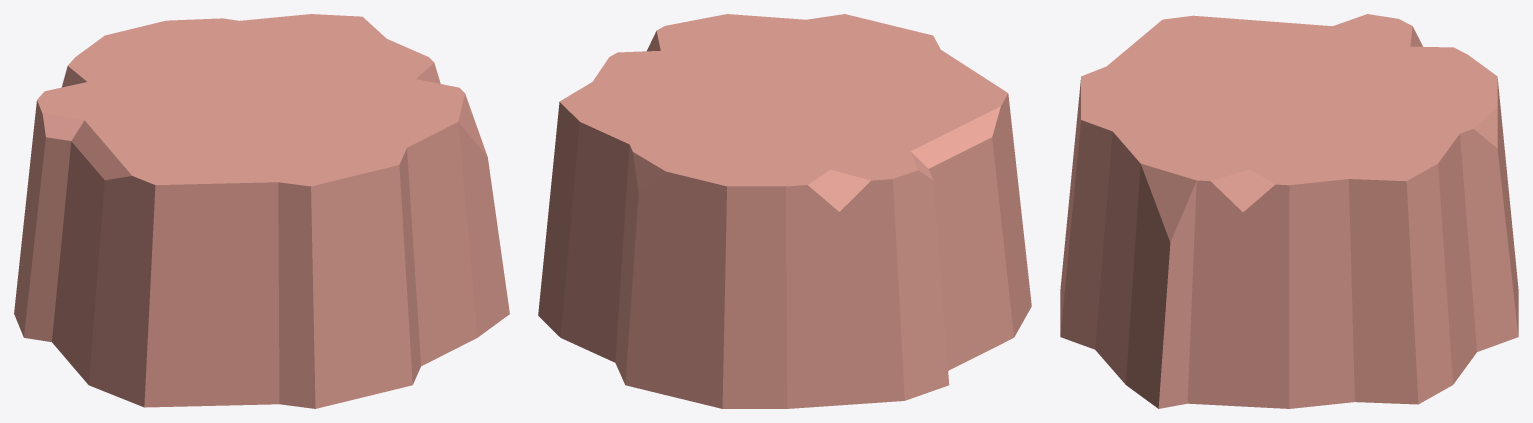
File: SuperGrid_Hexagon_014_Vlad.fbx
3 renders of one model, left to right at view 1: azimuth 30°, elevation 25°; view 2: azimuth 150°, elevation 25°; view 3: azimuth 270°, elevation 25°, orthographic.
Parts seen in each view (by area): view 1: SuperGrid_Hexagon.014; view 2: SuperGrid_Hexagon.014; view 3: SuperGrid_Hexagon.014.
Part boxes in pixels (box(x1,y1,x2,y2)): SuperGrid_Hexagon.014: box(14, 14, 509, 408); SuperGrid_Hexagon.014: box(538, 14, 1031, 408); SuperGrid_Hexagon.014: box(1060, 14, 1518, 408).
Size of the model in its own units: 19053 by 10000 by 19250.
